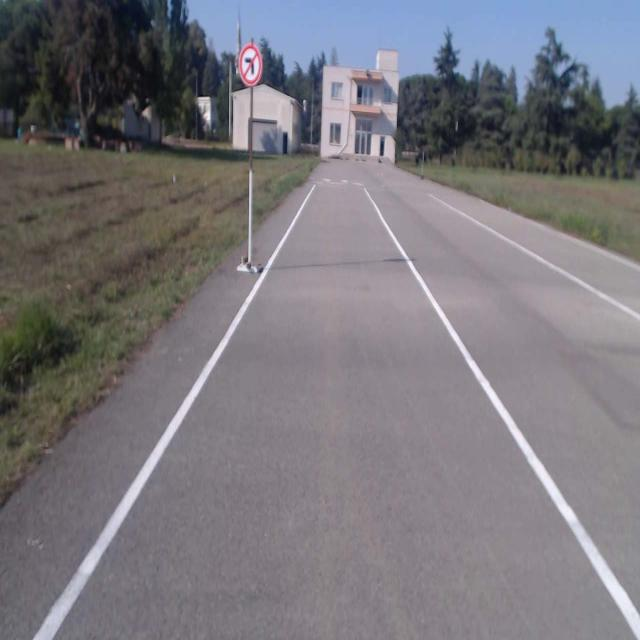soladonulmez: (237, 44, 262, 86)
